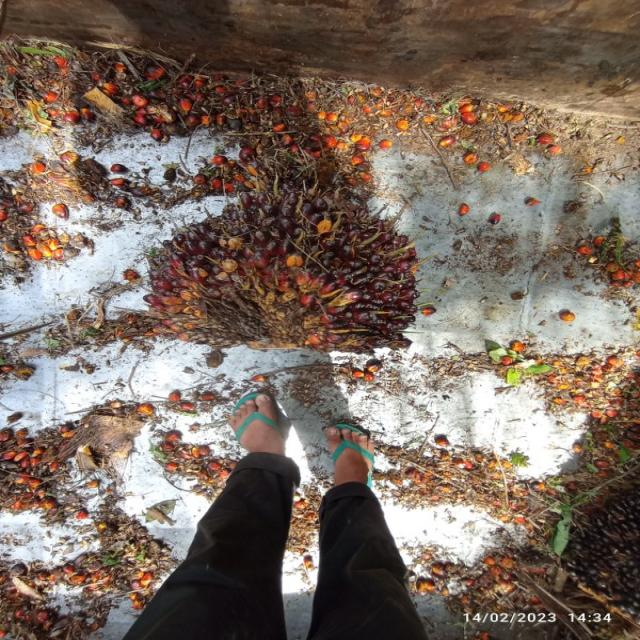fraksi 1: (148, 172, 422, 358)
